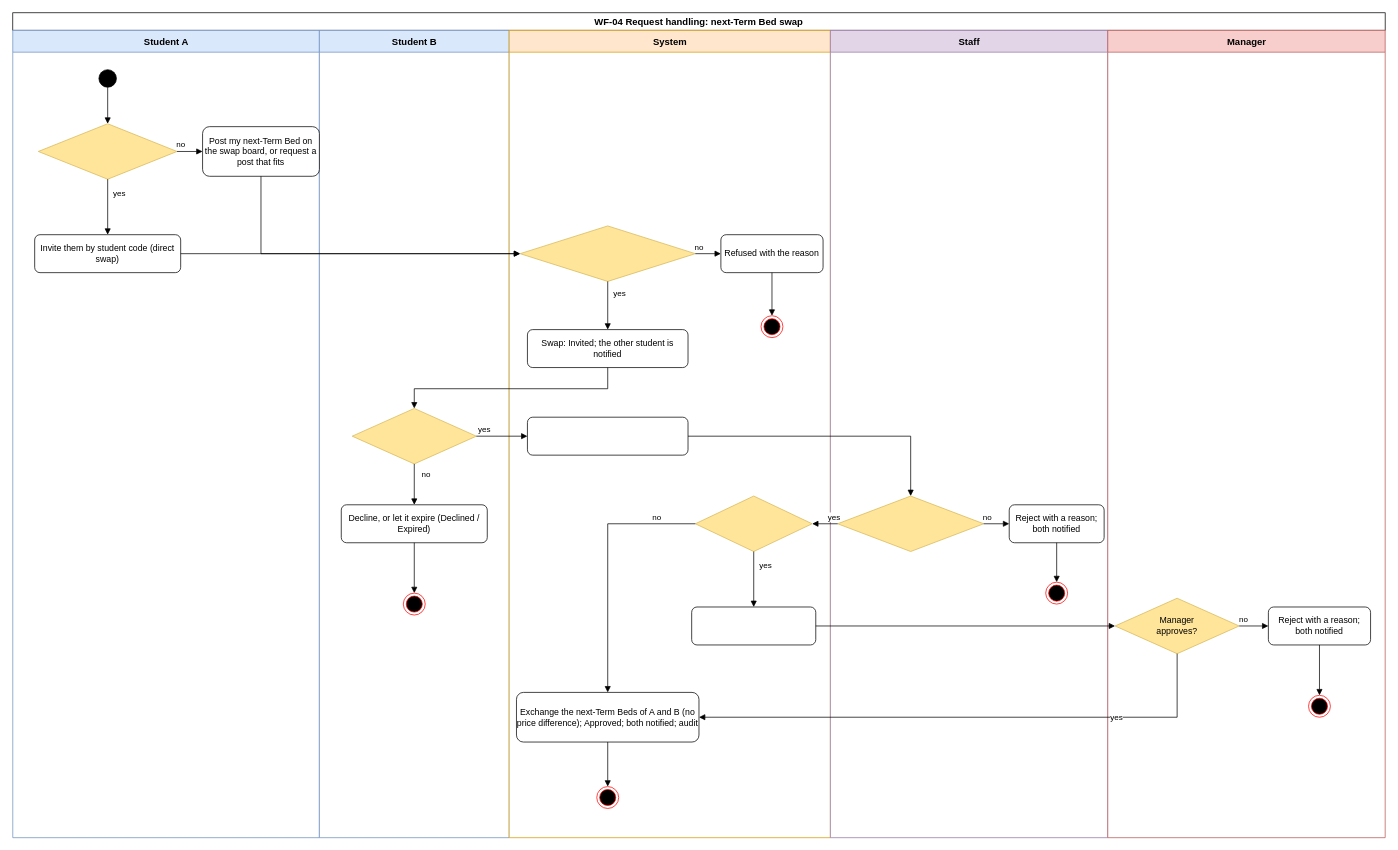
Image size: 1398x850. Some labels were removed from this diagram. The shapes that lost their labels are listed below. From the top down, each one's centre as x and y in pixels, then its label:
At point (107, 151): "Know the resident to swap with?".
At point (607, 253): "Requests window open, both continuing, same gender?".
At point (413, 436): "Accept the swap?".
At point (607, 435): "Swap: Pending; the Block's Staff are notified".
At point (753, 523): "Across two Blocks?".
At point (910, 523): "Rules still pass and Staff approve?".
At point (753, 625): "Swap: To Manager; Managers notified".
